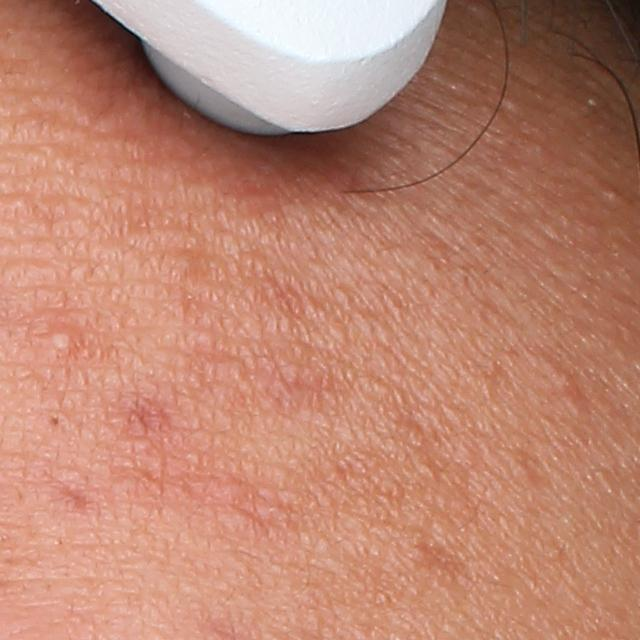comedo: (545, 364, 581, 403), (42, 408, 68, 435)
